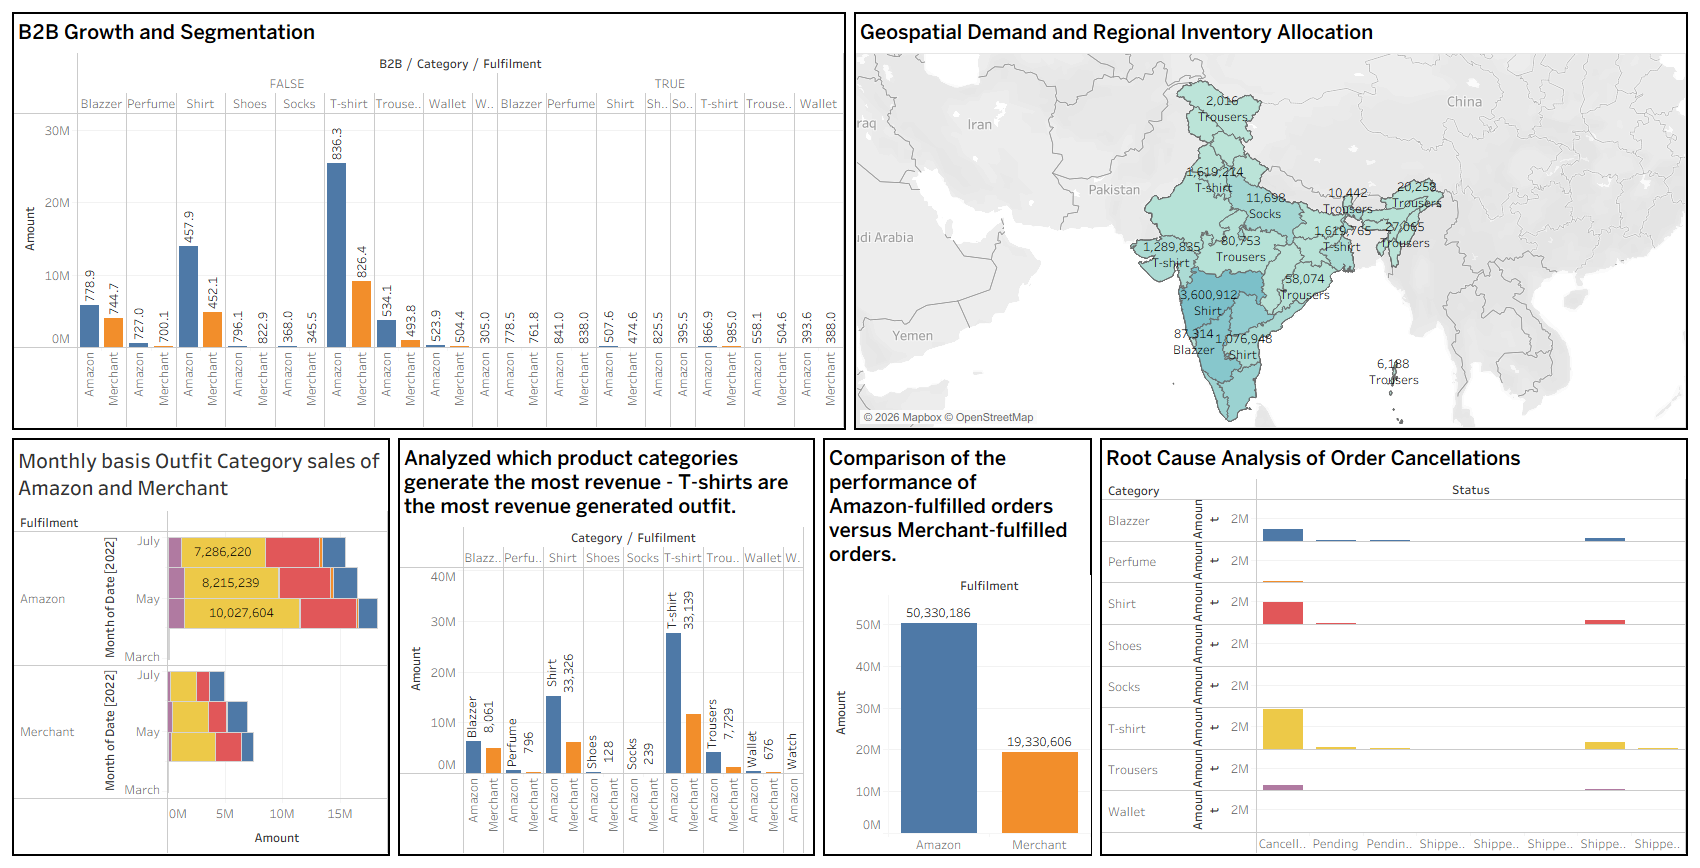

What the dashboard file says about the page in this screenshot:
{"tool":"tableau","page":{"name":"Dashboard 1","canvas":[1700,900],"ordinal":0},"visuals":[{"type":"title","box":[8,8,1684,41]},{"type":"worksheet","title":"Sheet 4","mark":"Automatic","rows":["Amount"],"cols":["B2B","Category","Fulfilment"],"box":[8,49,662,421.5]},{"type":"worksheet","title":"Sheet 3","mark":"Automatic","rows":["Amount"],"cols":["Category"],"box":[670,49,376,843]},{"type":"worksheet","title":"Sheet 2","mark":"Automatic","box":[1046,49,646,421.5]},{"type":"worksheet","title":"Sheet 1","mark":"Bar","rows":["Fulfilment","Date"],"cols":["Amount"],"box":[8,470.5,662,421.5]},{"type":"worksheet","title":"Sheet 5","mark":"Automatic","rows":["Category","Amount"],"cols":["Status"],"box":[1046,470.5,315.5,421.5]},{"type":"worksheet","title":"Sheet 6","mark":"Automatic","rows":["Amount"],"cols":["Fulfilment"],"box":[1361.5,470.5,330.5,421.5]}]}

Visuals, with their boxes in screenshot pixels (x1, y1, x2, y2):
title: x1=70, y1=0, x2=1699, y2=13
"Sheet 4" worksheet: x1=70, y1=13, x2=722, y2=428
"Sheet 3" worksheet: x1=722, y1=13, x2=1093, y2=844
"Sheet 2" worksheet: x1=1093, y1=13, x2=1699, y2=428
"Sheet 1" worksheet (Bar marks): x1=70, y1=428, x2=722, y2=844
"Sheet 5" worksheet: x1=1093, y1=428, x2=1404, y2=844
"Sheet 6" worksheet: x1=1404, y1=428, x2=1699, y2=844
